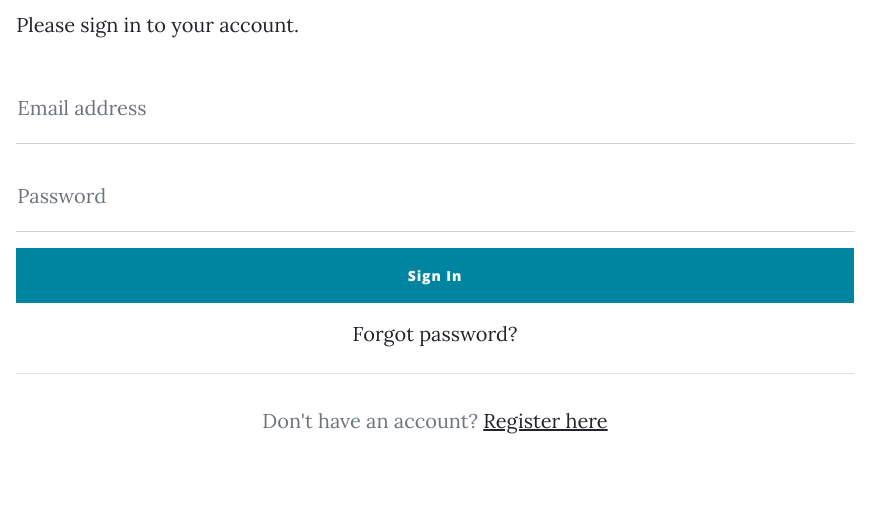
Test: pinned auth views › does not establish a session when the cookie exchange fails
Type "e@example.com" into the field labelled "Email address". click: (435, 108)
box: [16, 72, 854, 144]
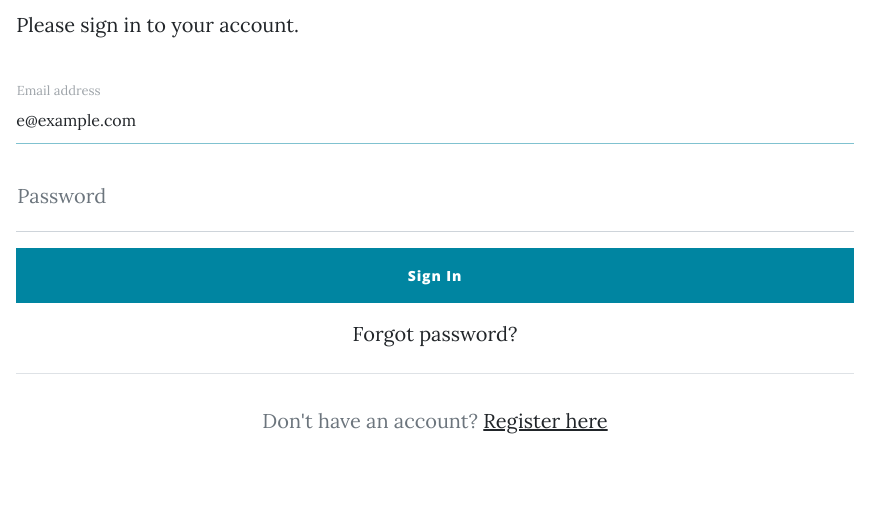
Type "secret123" into the password field labelled "Password". click: (435, 196)
box: [16, 160, 854, 232]
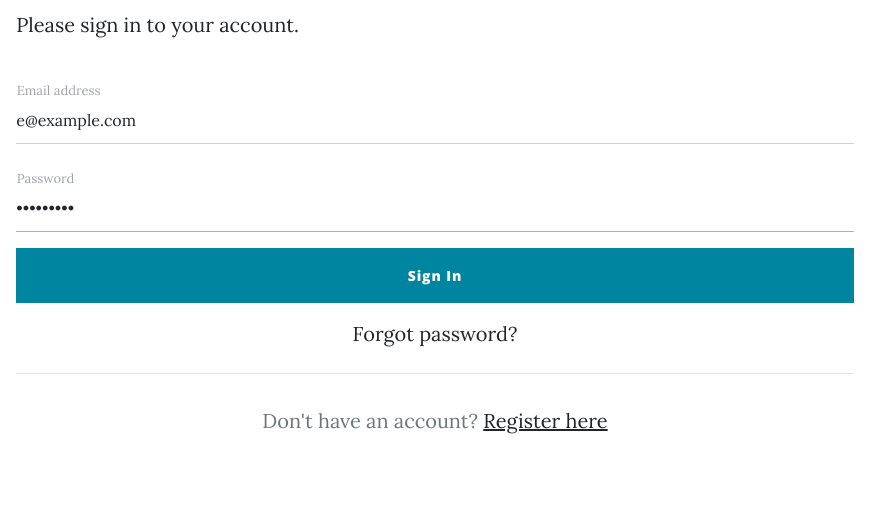
Click the button "Sign In". click: (435, 276)
box: [16, 248, 854, 303]
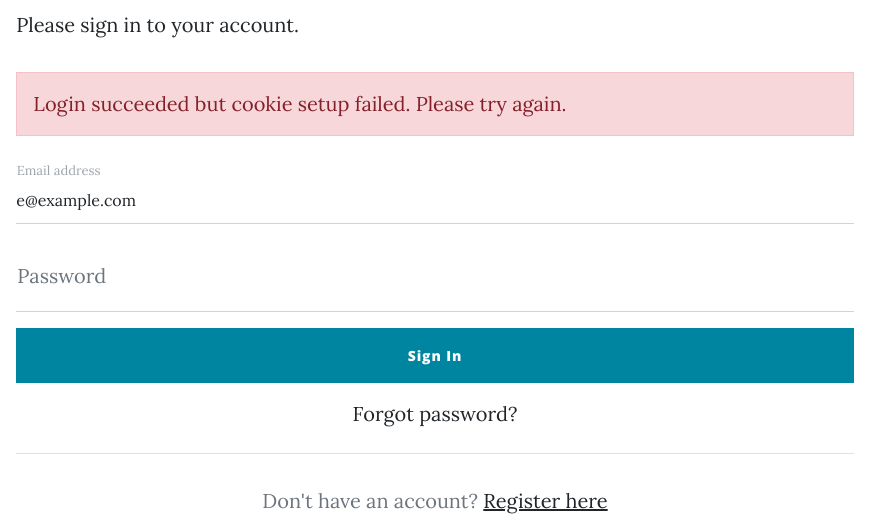
Result: the message reads "Login succeeded but cookie setup failed. Please try again." at [33, 91, 566, 116]
